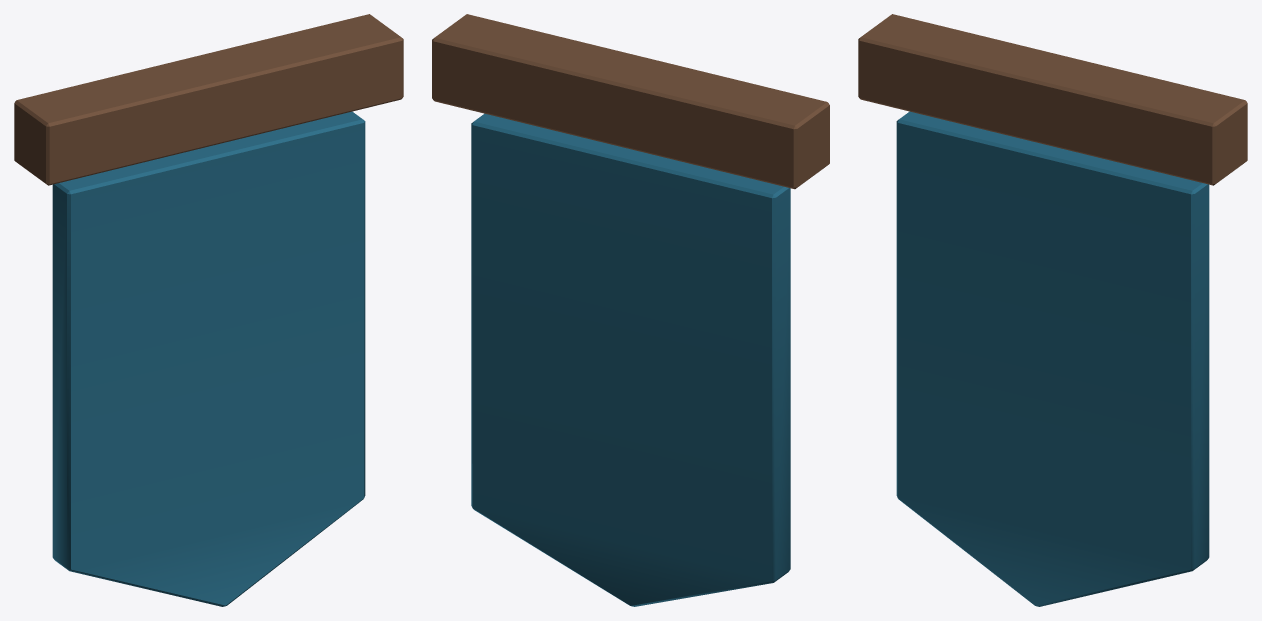
Rendered from banner_hanging_01.glb.
3 views of the same model, side by side, from view 1: azimuth 30°, elevation 25°; view 2: azimuth 150°, elevation 25°; view 3: azimuth 330°, elevation 25° (orthographic). The views are drawn at different scales.
Parts seen in each view (by area): view 1: banner_hanging_01; view 2: banner_hanging_01; view 3: banner_hanging_01.
Part boxes in pixels (left/top/right/bottom): banner_hanging_01: left=14, top=14, right=403, bottom=606; banner_hanging_01: left=432, top=14, right=829, bottom=606; banner_hanging_01: left=858, top=14, right=1247, bottom=606.
Bounding box in the file's own units: 0.6 × 0.8434 × 0.1.
